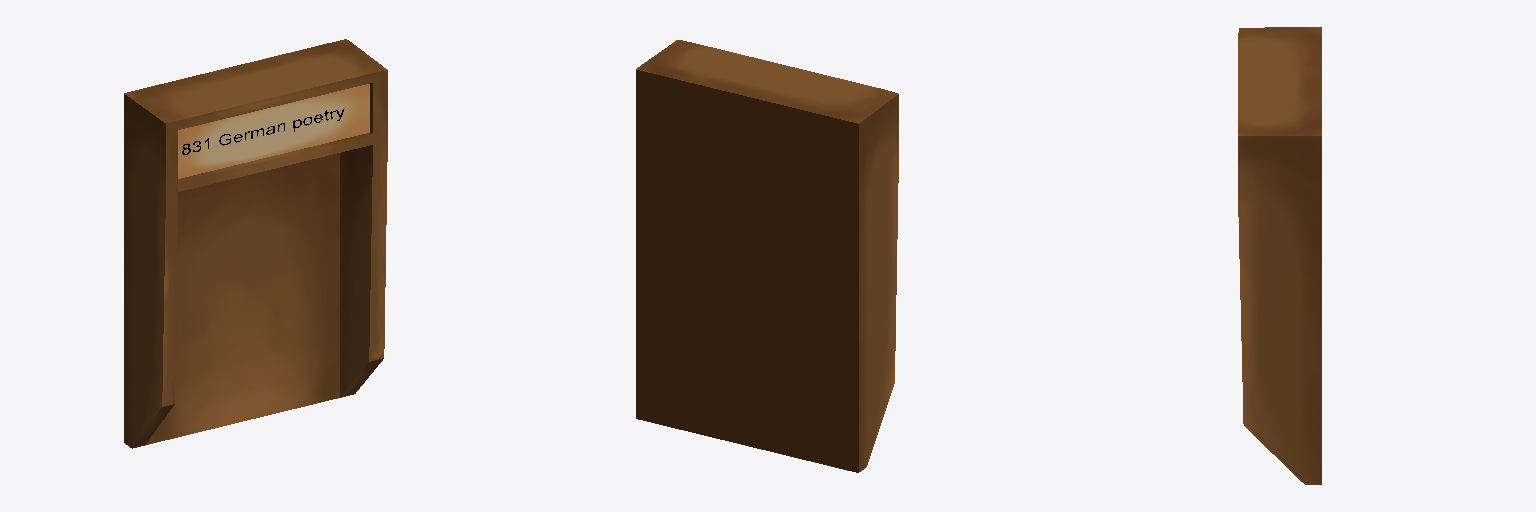
3 renders of one model, left to right at view 1: azimuth 30°, elevation 25°; view 2: azimuth 150°, elevation 25°; view 3: azimuth 270°, elevation 25°, orthographic.
Visible parts, largest first — view 1: holder, holder_label; view 2: holder; view 3: holder.
Part boxes in pixels (x1,y1,x2,y2): holder: (124,39,387,448); holder_label: (178,84,369,178); holder: (636,40,898,472); holder: (1238,27,1321,484).
Size of the model in its own units: 7.93 by 11.88 by 2.58.
Materials: 2 (2 with a texture image).